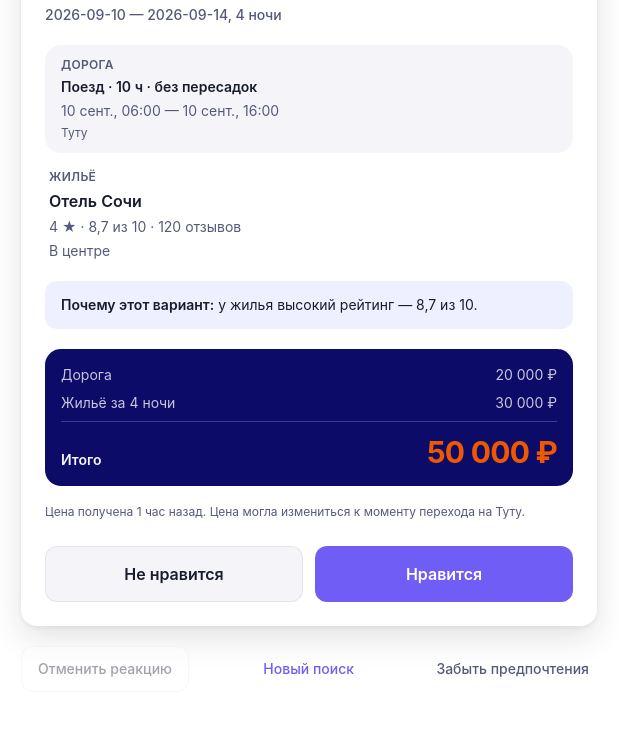
Test: swipe feed › AC22: undo restores the previous card, journal, and position
(page scrolled)
Click the button "Нравится": (444, 574) x1=315 y1=546 x2=573 y2=602
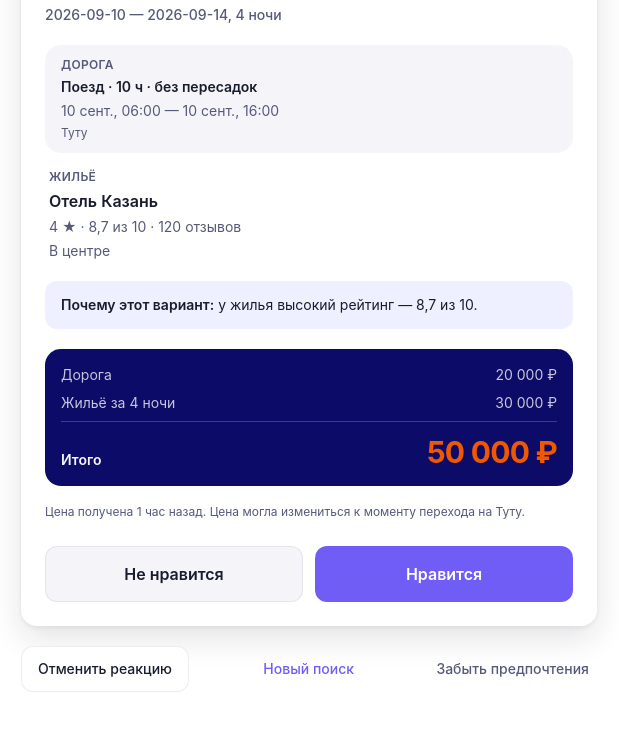
Click the button "Отменить реакцию": (105, 669) x1=21 y1=646 x2=189 y2=692
(page scrolled)
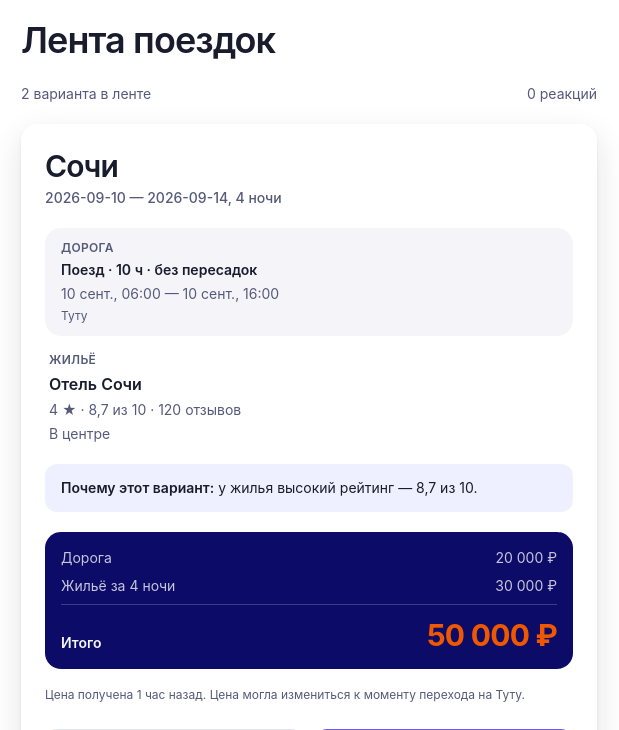
Expected: the heading "Сочи" is shown, x1=45 y1=148 x2=118 y2=184
Expected: the text "0 реакций" is shown, x1=527 y1=84 x2=597 y2=104
